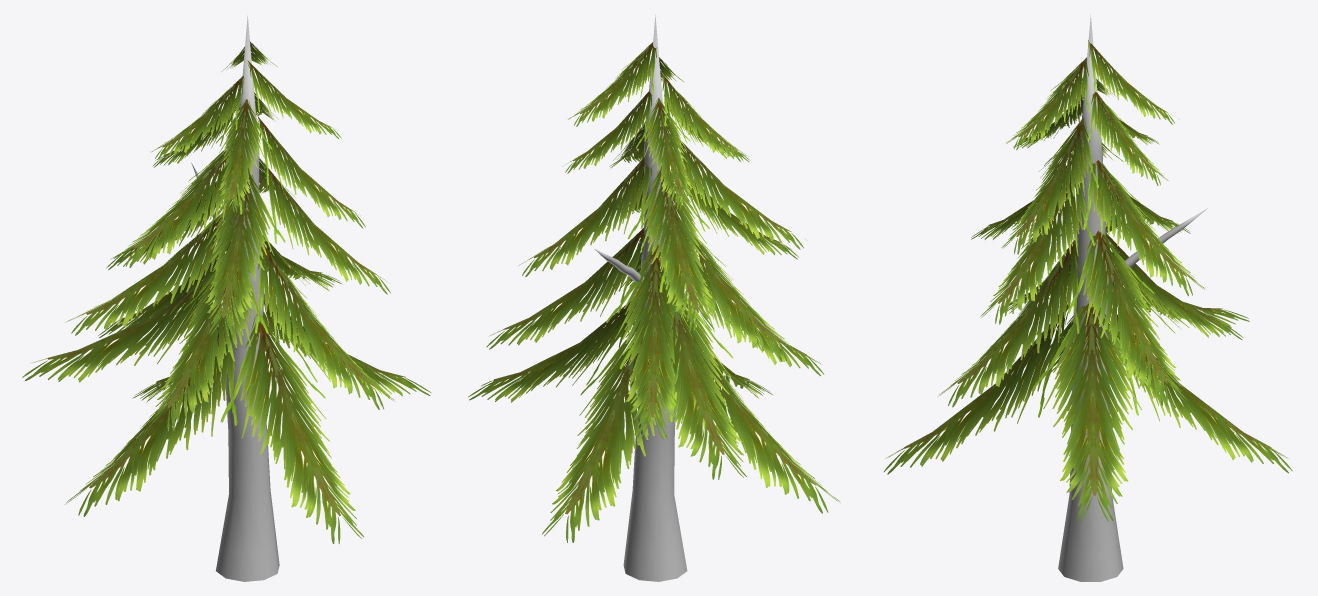
The model's file is SM_PineTree_001.fbx.
3 views of the same model, side by side, from view 1: azimuth 30°, elevation 25°; view 2: azimuth 150°, elevation 25°; view 3: azimuth 270°, elevation 25° (orthographic).
Visible parts, largest first — view 1: SM_PineTree_001; view 2: SM_PineTree_001; view 3: SM_PineTree_001.
Part boxes in pixels (x1,y1,x2,y2): SM_PineTree_001: [22, 15, 431, 581]; SM_PineTree_001: [468, 14, 840, 581]; SM_PineTree_001: [884, 14, 1292, 581].
Size of the model in its own units: 734 by 1036 by 729.
